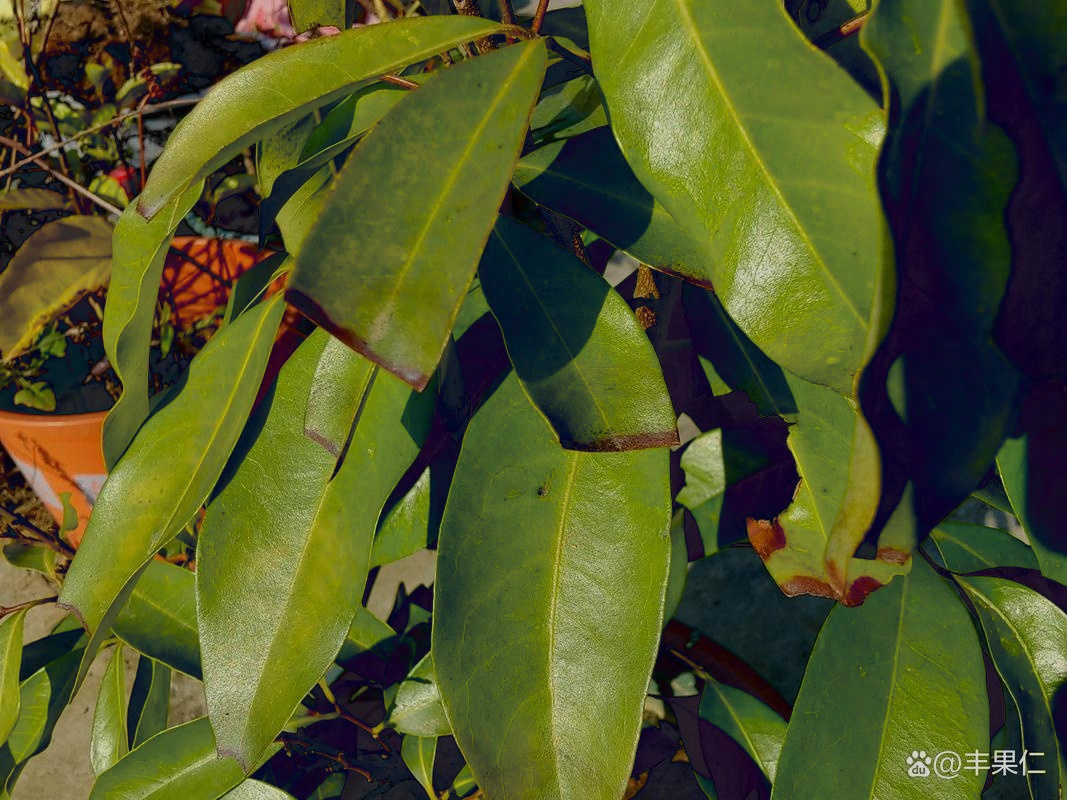Anthracnose: (259, 281, 466, 450), (689, 494, 929, 618), (549, 422, 692, 460)
